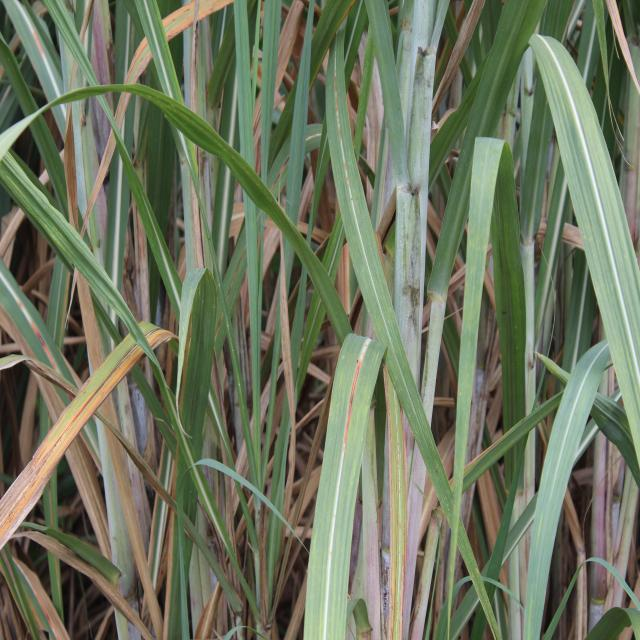Sugarcane: (1, 78, 333, 607), (344, 1, 486, 602), (532, 31, 640, 509), (274, 0, 334, 624), (426, 2, 555, 273), (2, 140, 145, 363), (126, 3, 219, 325), (446, 134, 512, 582), (334, 2, 412, 374), (233, 0, 281, 572), (524, 340, 612, 590), (1, 86, 152, 197), (172, 257, 218, 599), (490, 141, 530, 509), (333, 332, 380, 614), (181, 460, 262, 615), (1, 2, 72, 171), (460, 389, 571, 496), (43, 119, 79, 389), (268, 1, 318, 195), (207, 2, 291, 114), (216, 2, 248, 294), (534, 139, 571, 376), (536, 555, 638, 640), (362, 0, 406, 195), (57, 1, 91, 252), (144, 58, 175, 323), (520, 35, 554, 254), (177, 3, 201, 294), (18, 528, 122, 591), (194, 5, 216, 264), (1, 542, 52, 640), (104, 137, 128, 330), (574, 0, 602, 146)
